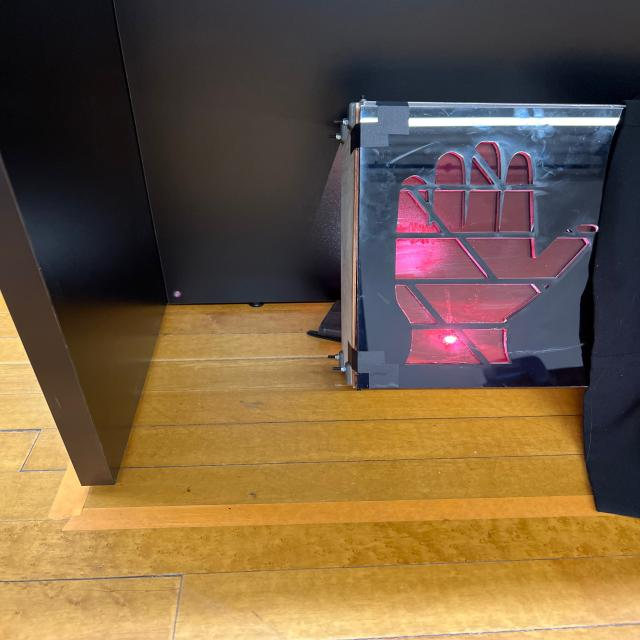stop: (356, 105, 586, 387)
